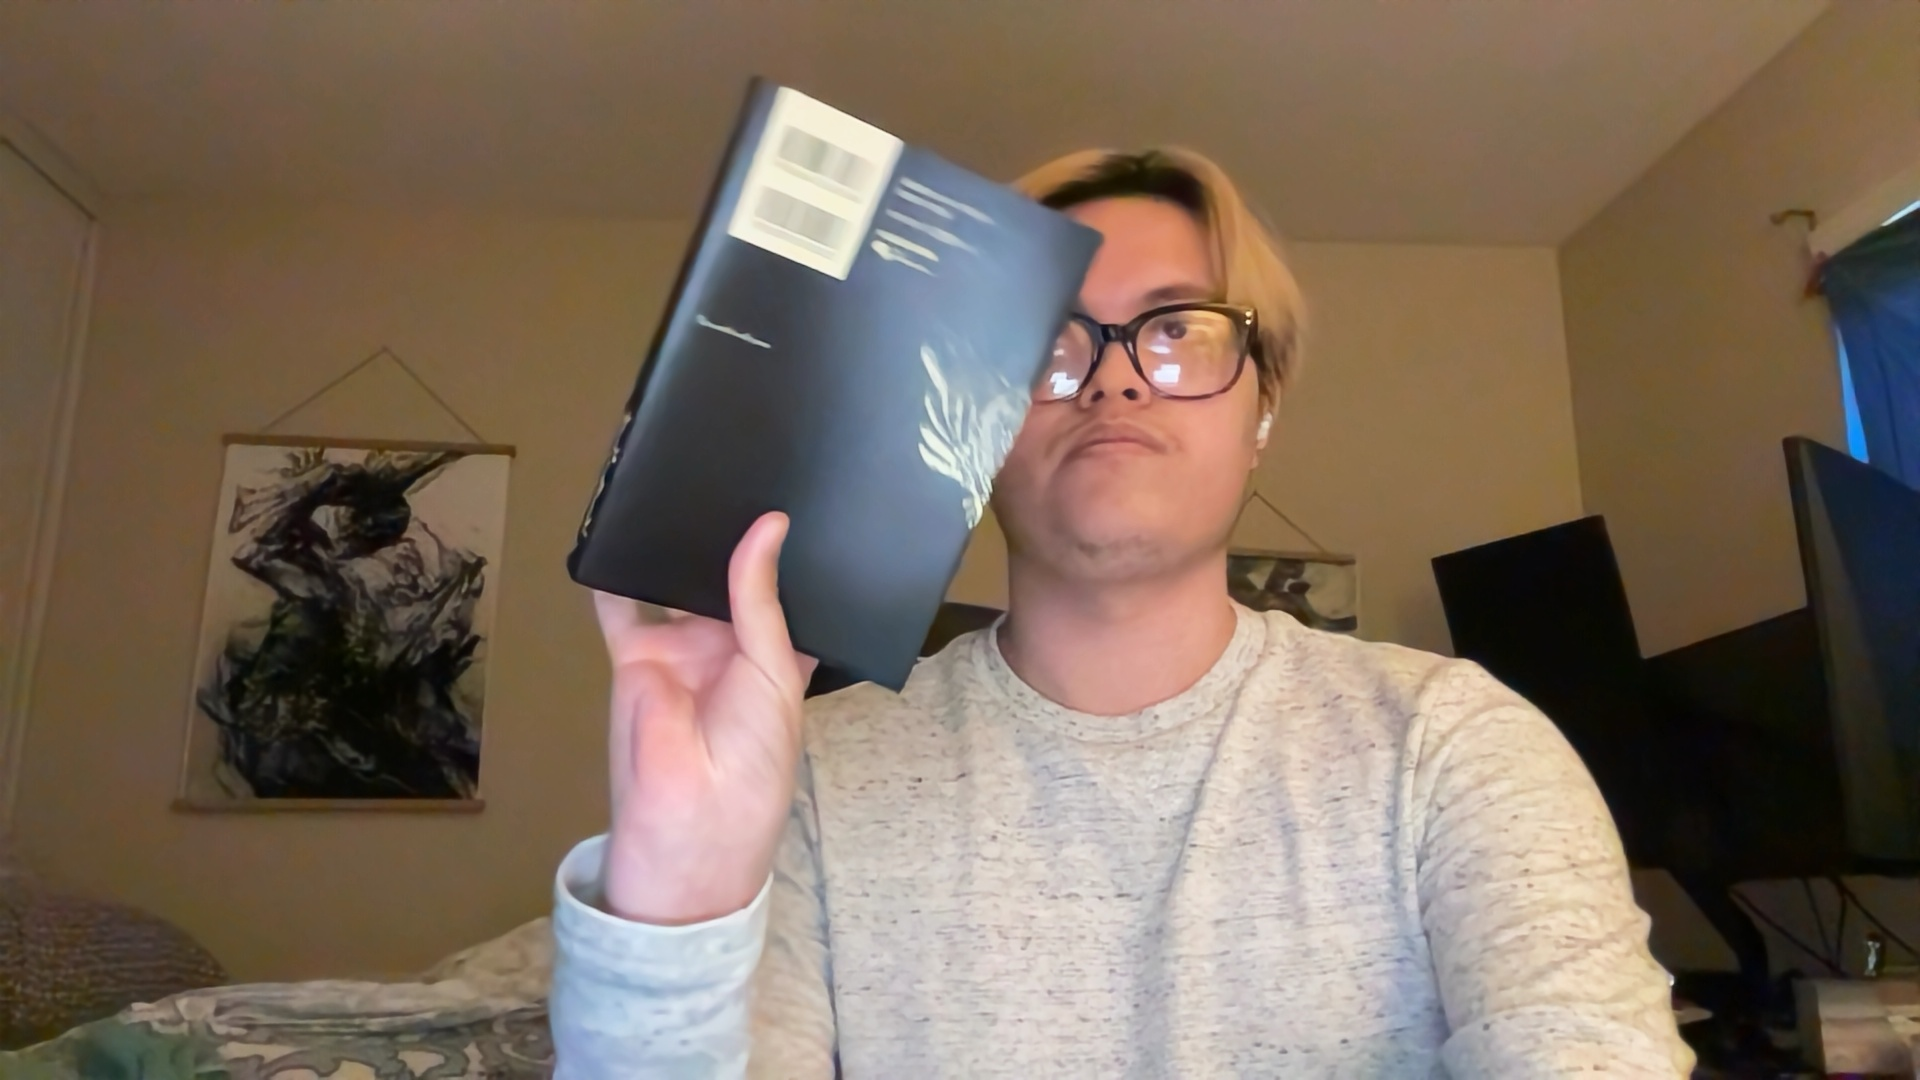book: (568, 65, 1112, 688)
